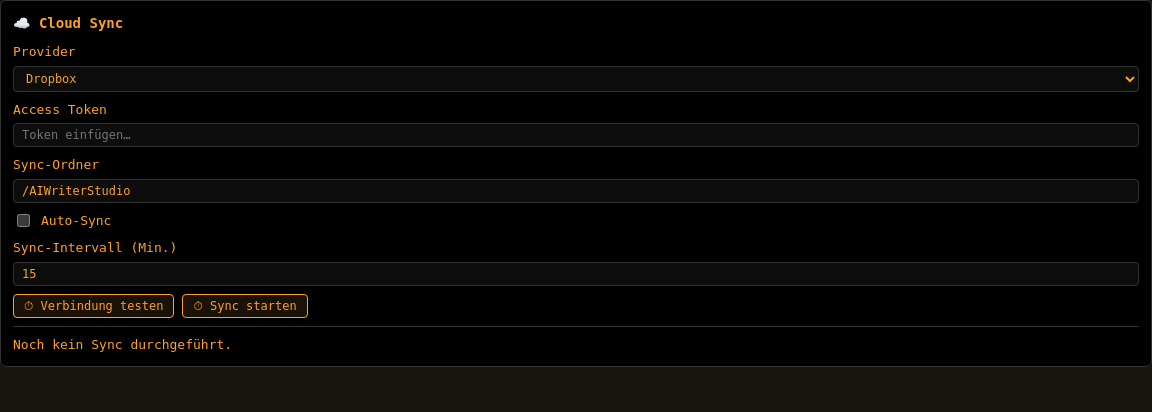
CloudSyncPanel › Verbindungstest zeigt Erfolg an
Click the button with test id "cloudsync-test": (94,306) [13,294,174,318]
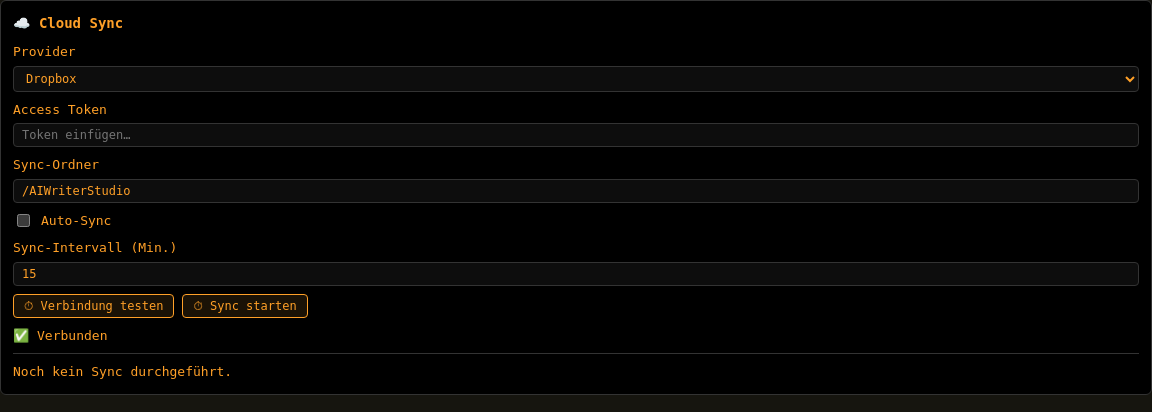
expect the text with test id "cloudsync-conn" shows "Verbunden": met, box [13,328,108,342]
